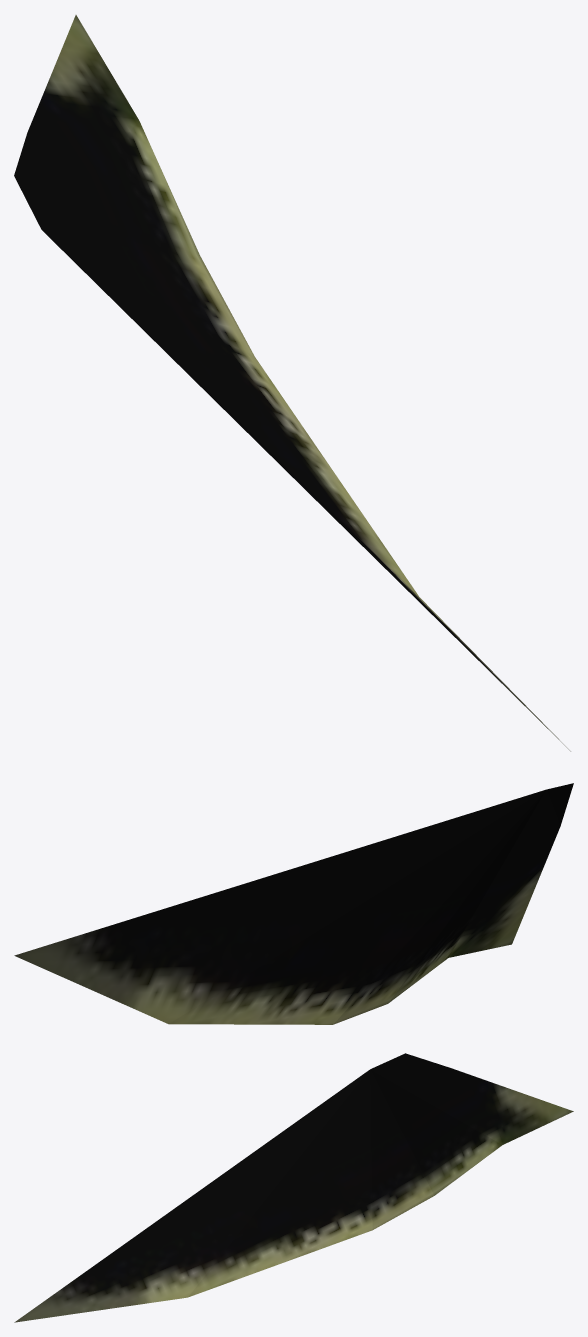
3 renders of one model, top to bottom at view 1: azimuth 30°, elevation 25°; view 2: azimuth 210°, elevation 25°; view 3: azimuth 270°, elevation 25°, orthographic. The views are drawn at different scales.
Bounding box in the file's own units: 1.16 × 1.93 × 4.63.
Materials: 1 (1 with a texture image).
